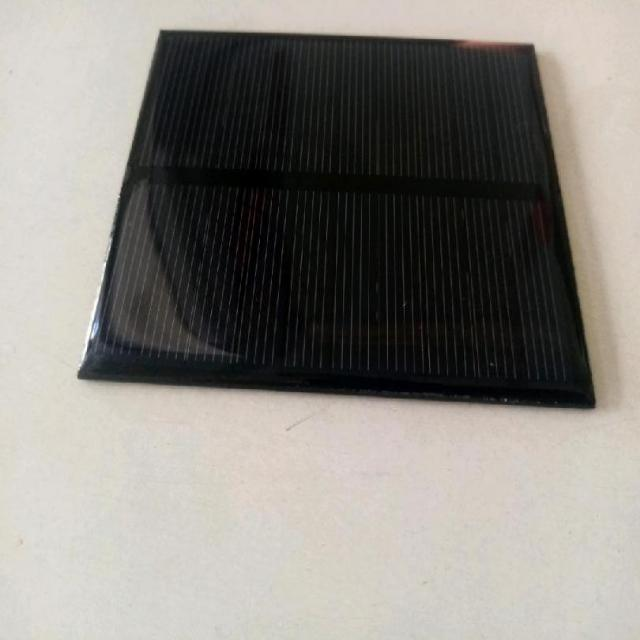no faulty: (116, 23, 564, 408)
